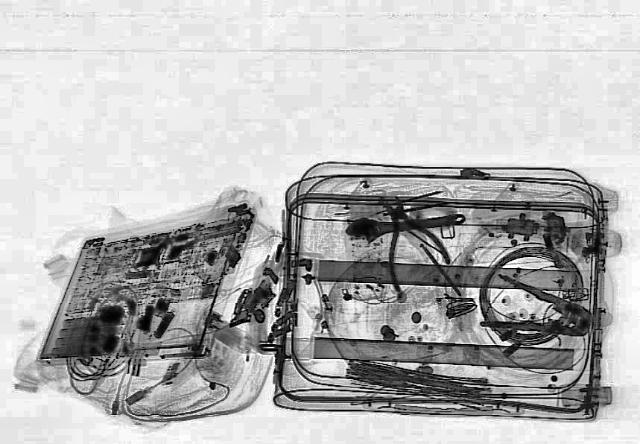Pliers: (354, 191, 461, 293), (470, 273, 606, 347)
Wrench: (340, 205, 468, 243)
